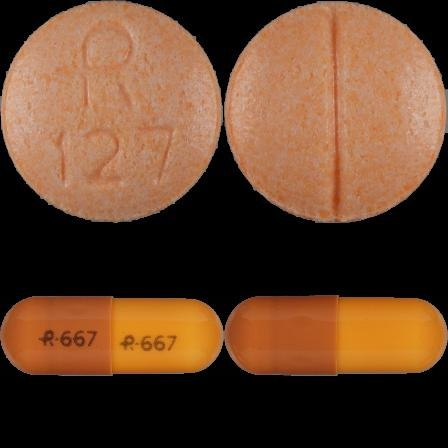60760-027: (0, 0, 224, 224)
